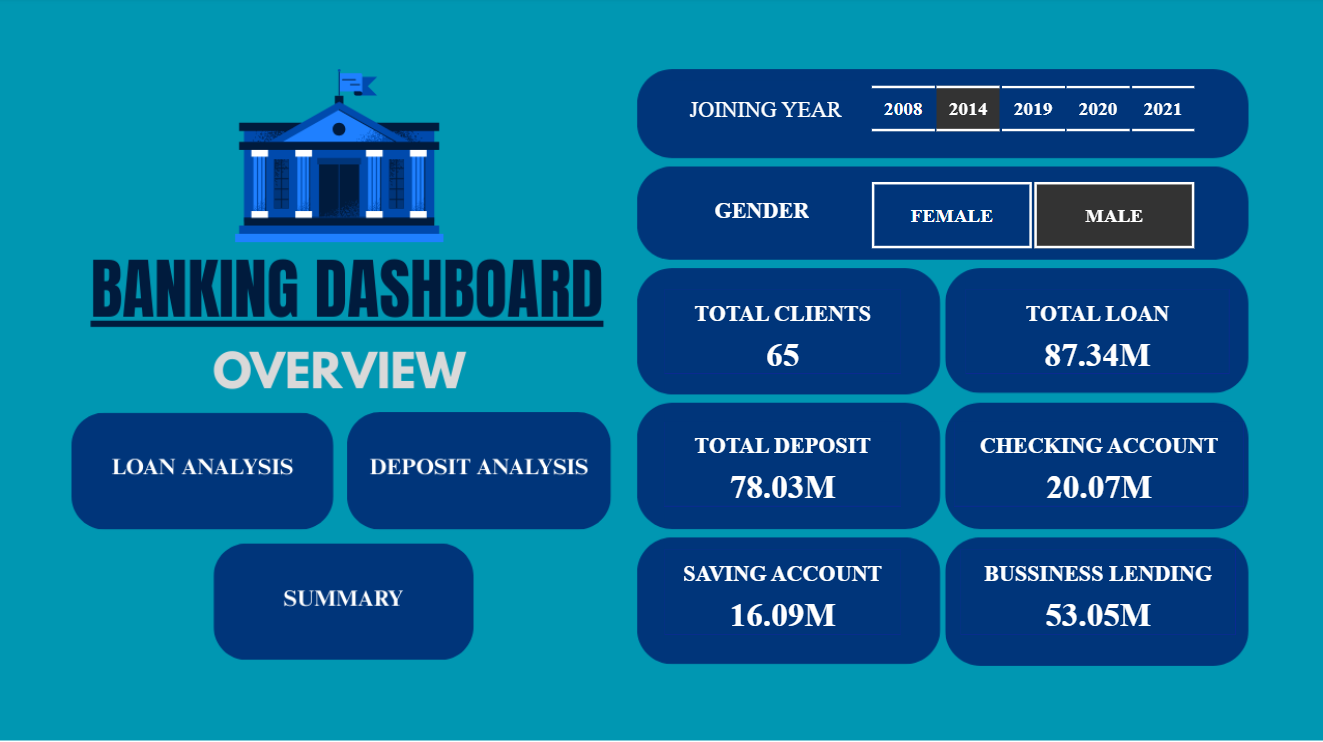

Layout of this report page (visuals, bound fields, positions):
{"tool":"powerbi","page":{"name":"HOME","canvas":[1280,720],"ordinal":0},"visuals":[{"type":"cardVisual","fields":{"Data":["CountNonNull(banking_data.Name)"]},"box":[639.5,277.2,238.8,91.9],"z":0},{"type":"cardVisual","fields":{"Data":["banking_data.Total Loan"]},"box":[930.4,277.2,264.8,91.9],"z":1000},{"type":"cardVisual","fields":{"Data":["banking_data.Total Deposit"]},"box":[639.5,404.8,238.8,91.9],"z":2000},{"type":"cardVisual","fields":{"Data":["Sum(banking_data.Checking Accounts)"]},"box":[919.4,404.8,289.5,91.9],"z":3000},{"type":"cardVisual","fields":{"Data":["Sum(banking_data.Saving Accounts)"]},"box":[640,528.6,238.6,92.9],"z":4000},{"type":"cardVisual","fields":{"Data":["Sum(banking_data.Business Lending)"]},"box":[925.7,528.6,275.7,92.9],"z":5000},{"type":"slicer","fields":{"Values":["banking_data.GenderId"]},"box":[820.6,174.3,359.5,74.1],"z":6000},{"type":"cardVisual","fields":{"Data":["CountNonNull(banking_data.GenderId)"]},"box":[675.1,174.3,167.4,74.1],"z":7000},{"type":"slicer","fields":{"Values":["banking_data.Year of Joining"]},"box":[820.6,81,359.5,53.5],"z":8000},{"type":"cardVisual","fields":{"Data":["Sum(banking_data.Year of Joining)"]},"box":[651.8,81,181.1,64.5],"z":9000},{"type":"actionButton","box":[77.8,404.2,240.3,102.8],"z":10000},{"type":"actionButton","box":[344.4,404.2,240.3,102.8],"z":11000},{"type":"actionButton","box":[213.9,529.2,240.3,102.8],"z":12000}]}

Visuals, with their boxes in screenshot pixels (x1, y1, x2, y2), scaled from the page's 1280x720 canvas onto the 1323x742 screenshot:
cardVisual - CountNonNull(banking_data.Name): 661/286/908/380
cardVisual - banking_data.Total Loan: 962/286/1235/380
cardVisual - banking_data.Total Deposit: 661/417/908/512
cardVisual - Sum(banking_data.Checking Accounts): 950/417/1250/512
cardVisual - Sum(banking_data.Saving Accounts): 662/545/908/640
cardVisual - Sum(banking_data.Business Lending): 957/545/1242/640
slicer - banking_data.GenderId: 848/180/1220/256
cardVisual - CountNonNull(banking_data.GenderId): 698/180/871/256
slicer - banking_data.Year of Joining: 848/83/1220/139
cardVisual - Sum(banking_data.Year of Joining): 674/83/861/150
actionButton: 80/417/329/522
actionButton: 356/417/604/522
actionButton: 221/545/469/651
